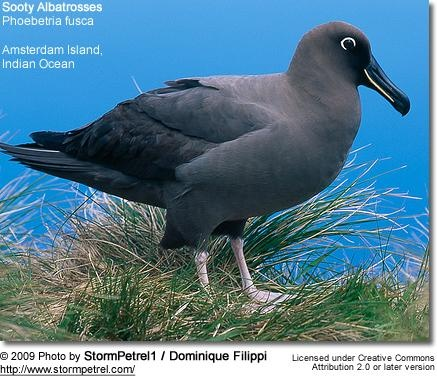bird: (1, 20, 413, 310)
